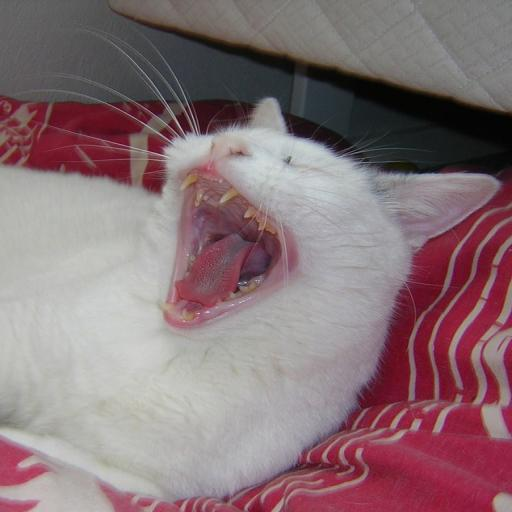cat: (0, 96, 502, 501)
